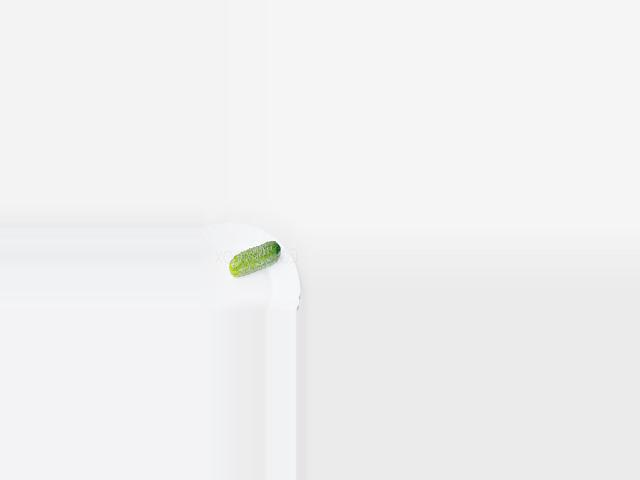cucumber: (229, 241, 279, 277)
